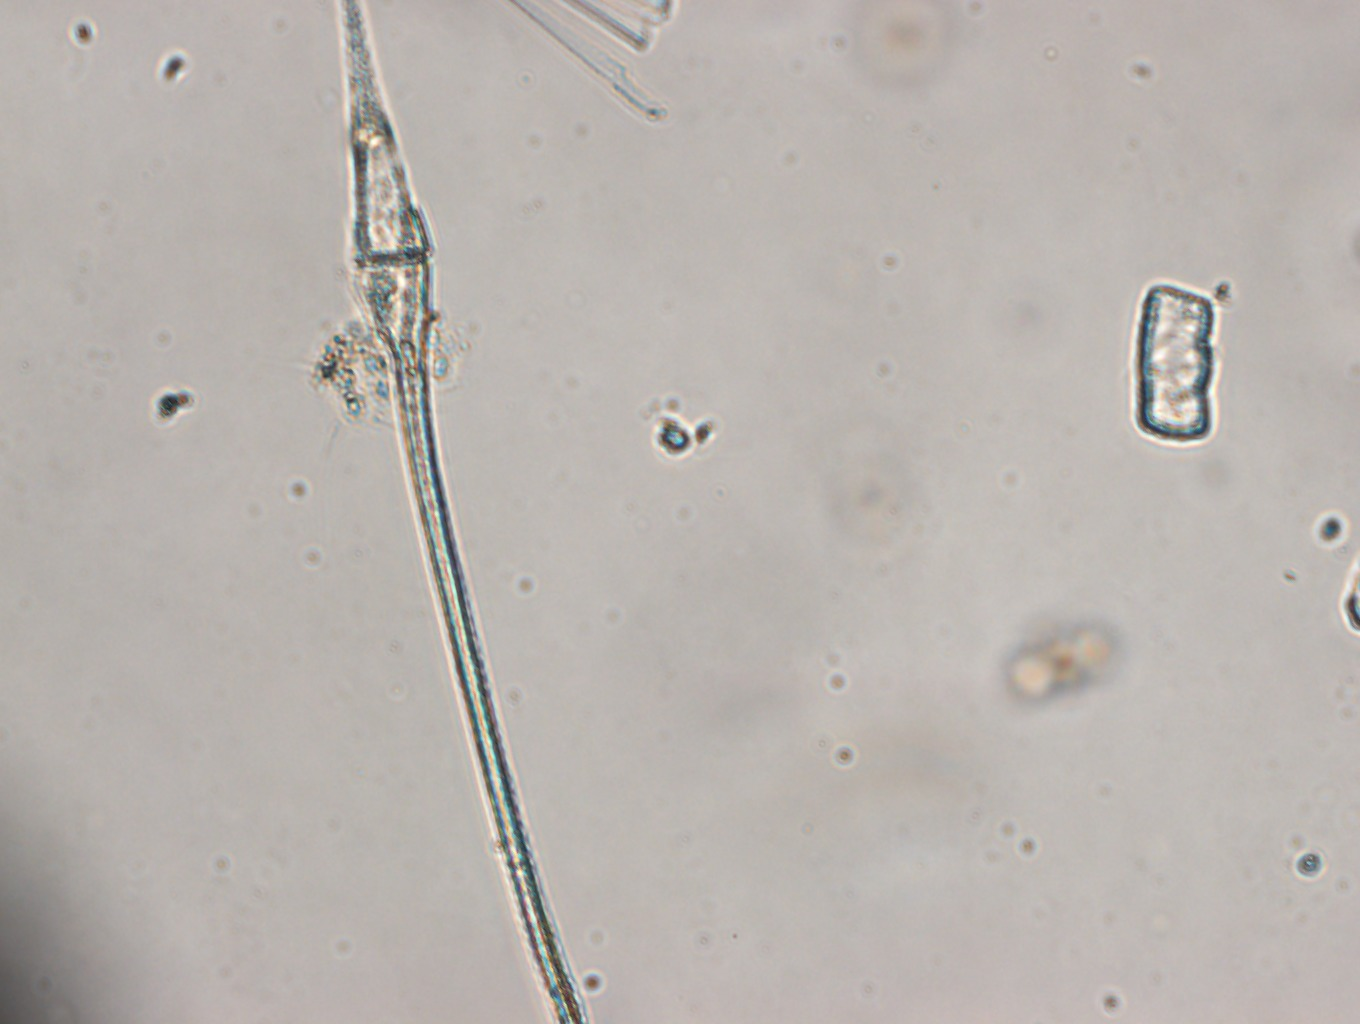ceratium fusus: (323, 2, 586, 1024)
